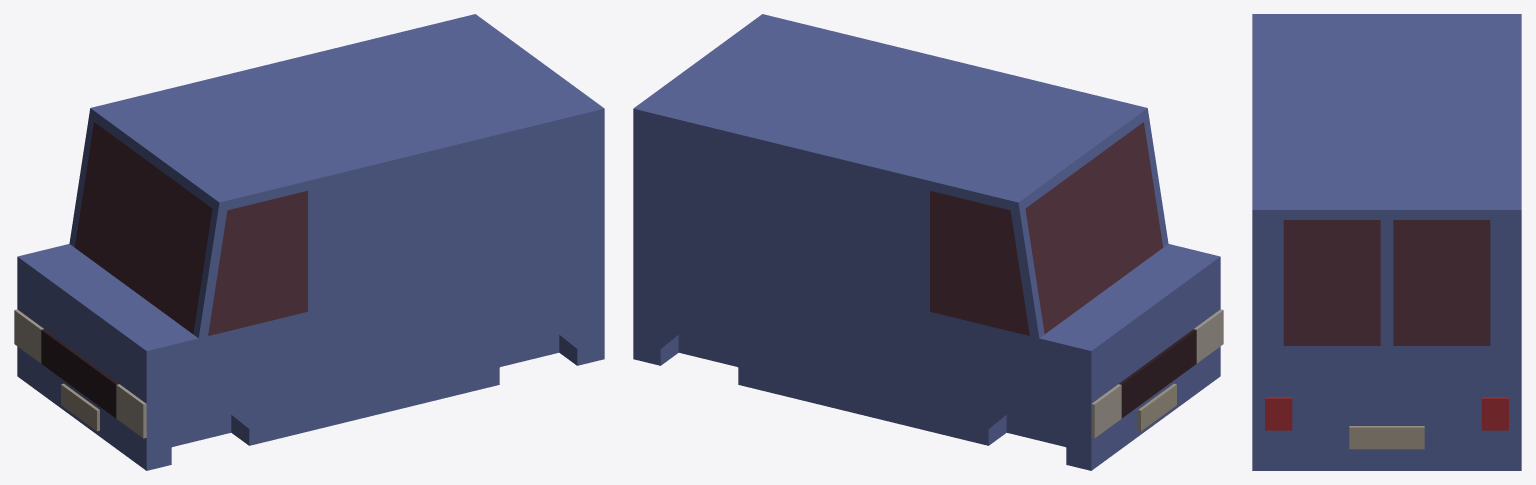
Rendered from Van_Blue.fbx.
3 renders of one model, left to right at view 1: azimuth 30°, elevation 25°; view 2: azimuth 150°, elevation 25°; view 3: azimuth 270°, elevation 25°, orthographic. The views are drawn at different scales.
Visible parts, largest first — view 1: Van_Blue, Van_Lights; view 2: Van_Blue, Van_Lights; view 3: Van_Blue, Van_Lights.
Boxes of the visible parts, x1,y1,x2,y2 form: Van_Blue: (17, 14, 604, 470); Van_Lights: (14, 309, 146, 438); Van_Blue: (633, 14, 1220, 470); Van_Lights: (1091, 309, 1223, 438); Van_Blue: (1252, 14, 1521, 470); Van_Lights: (1265, 397, 1508, 430).
Bounding box in the file's own units: 4.46 × 2.3 × 2.15.
